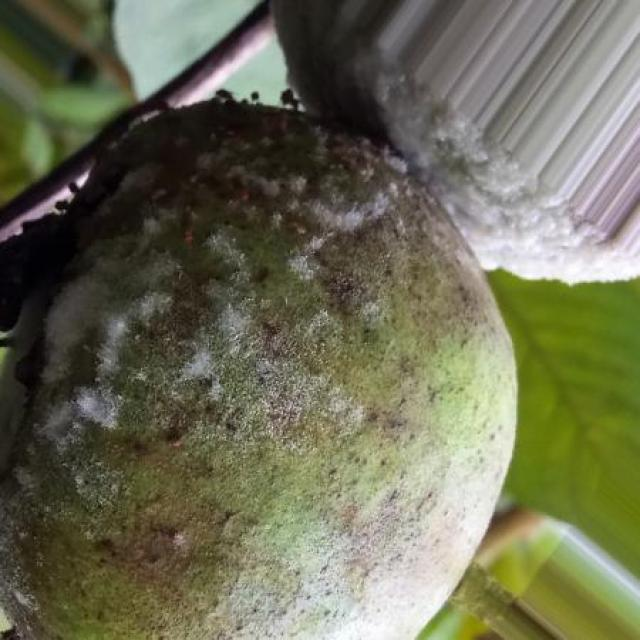Phytopthora: (0, 100, 516, 640)
